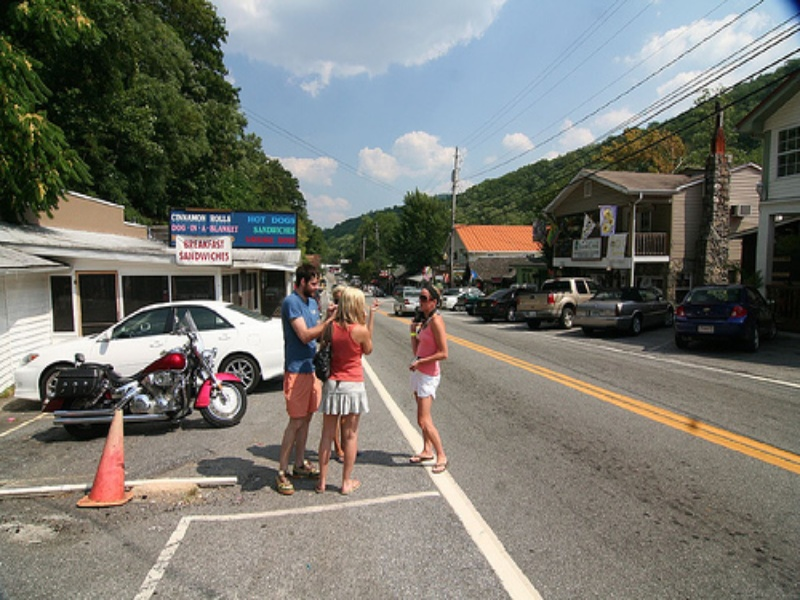car: (13, 300, 285, 401), (675, 284, 761, 352), (572, 287, 674, 335), (515, 277, 598, 328), (465, 288, 531, 322), (393, 289, 420, 318)
person: (275, 265, 336, 491), (317, 288, 378, 495), (409, 285, 449, 473)
